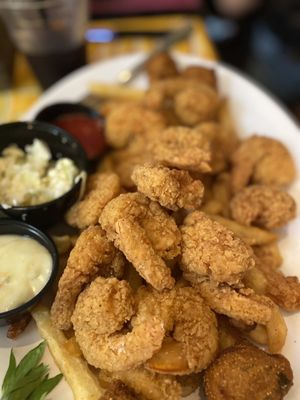sushi: (0, 120, 91, 228), (0, 216, 58, 336)
